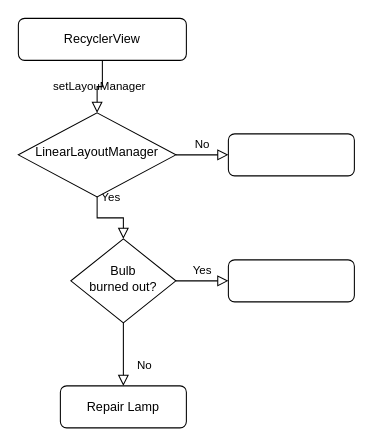
Some shapes in this 373 by 446 pixel diagram are drawn without their labels. Here are the shapes that lost their labels. From the top down, the centre of each, then its label:
At (x=290, y=154): "Plug in lamp".
At (x=290, y=280): "Replace Bulb".
